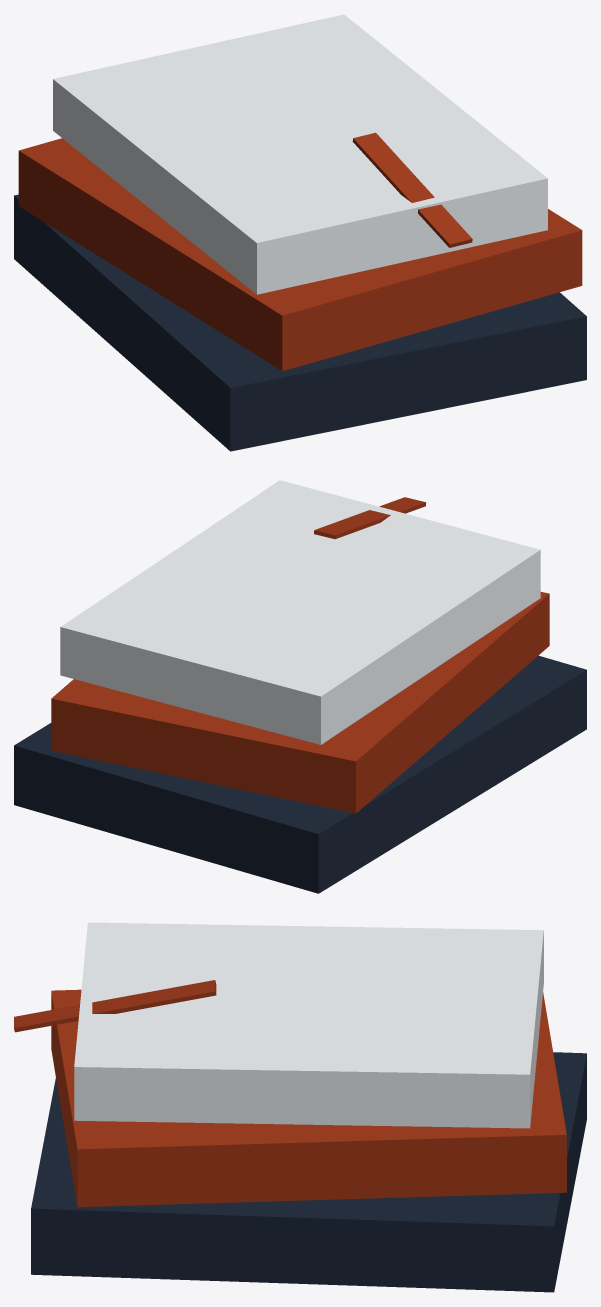
File: books.glb
3 renders of one model, top to bottom at view 1: azimuth 30°, elevation 25°; view 2: azimuth 150°, elevation 25°; view 3: azimuth 270°, elevation 25°, orthographic. The views are drawn at different scales.
Bounding box in the file's own units: 1.98 × 1.07 × 2.51.
